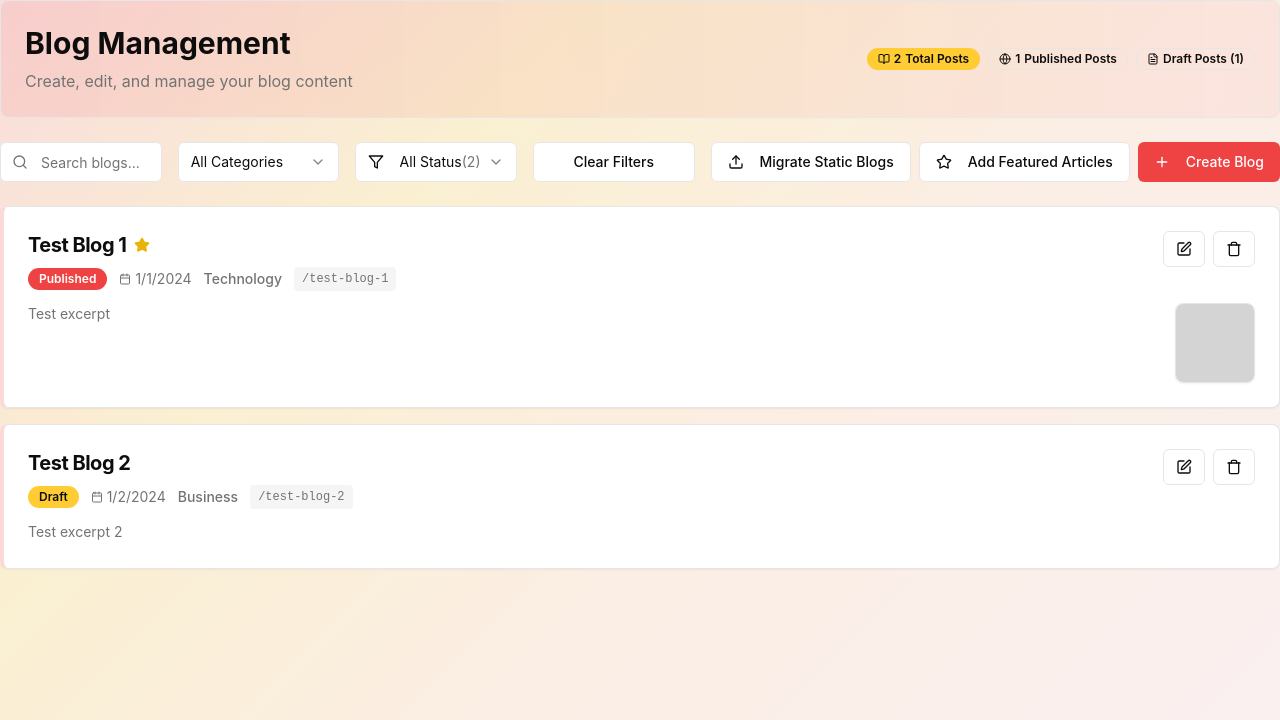
Test: BlogManager Component › switches between editor modes
Click the button "Create Blog": [1209, 162] box [1138,142,1279,182]
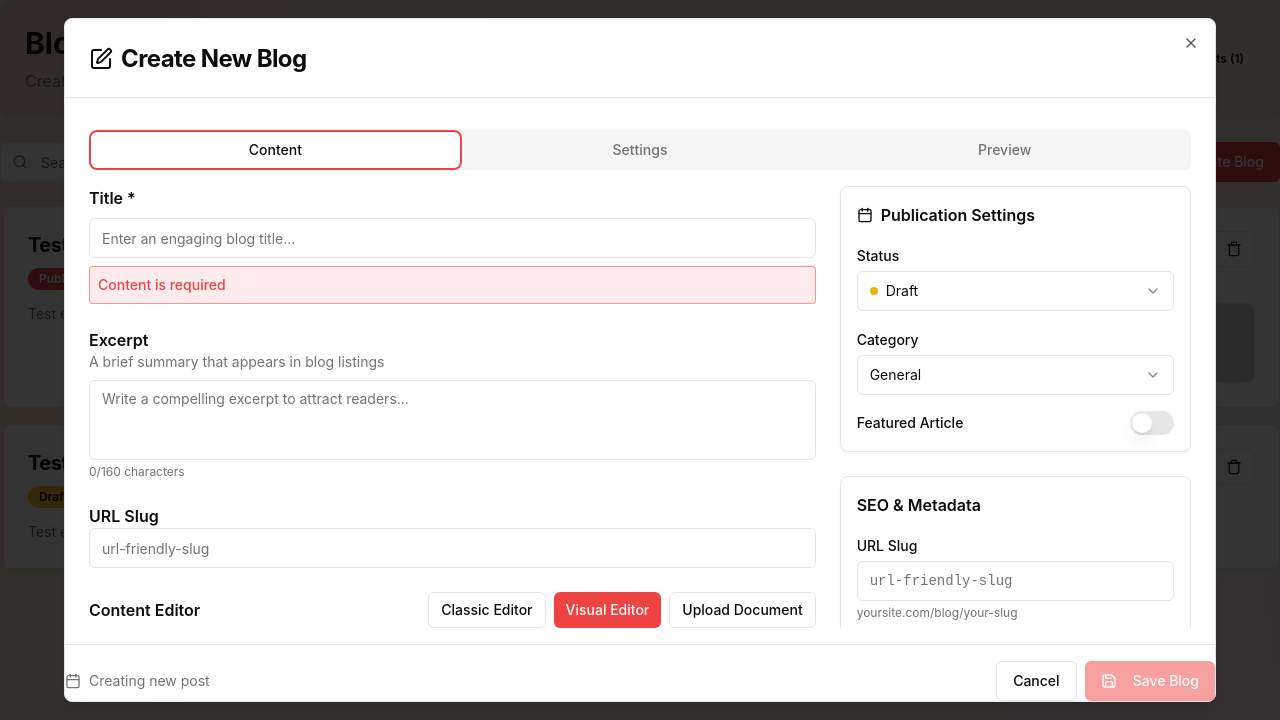
Now the button "Visual Editor" is shown, box [554,592,661,628]
Now the button "Classic Editor" is shown
Now the button "Upload Document" is shown, box [669,592,816,628]
// Switch to classic editor
Click the button "Classic Editor": [487, 610] box [428,592,546,628]
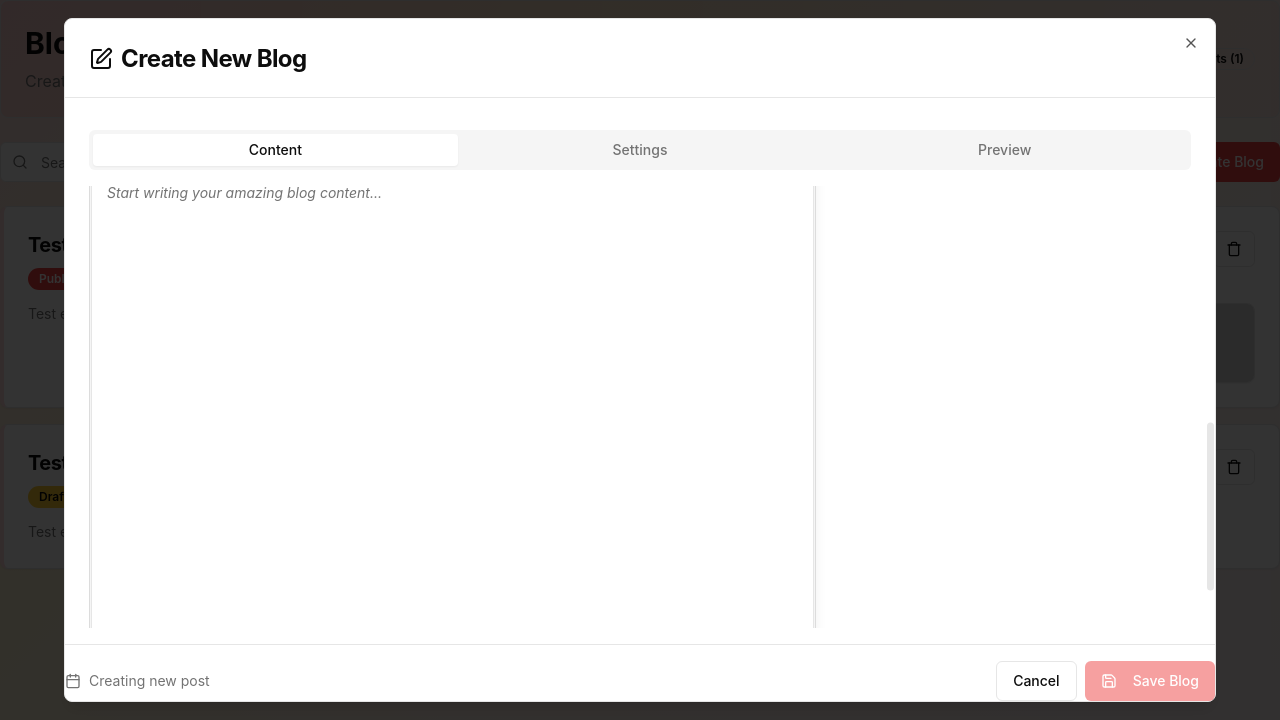
Now the field named "content" is shown, box [92,186,813,628]
